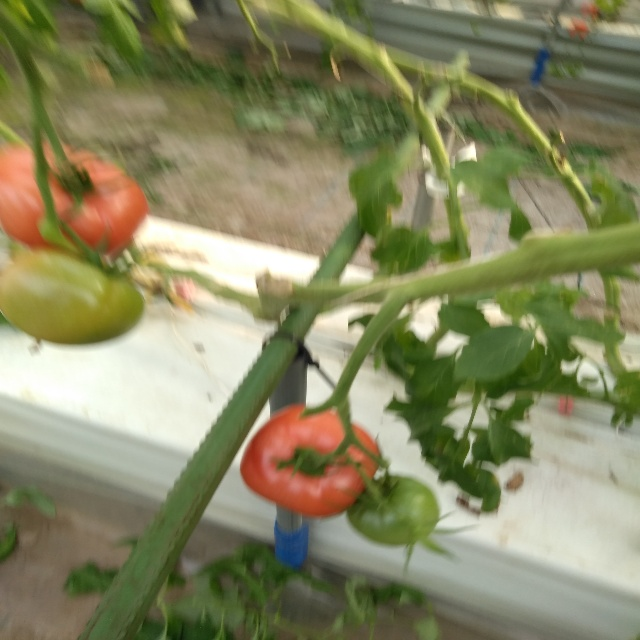b_fully_ripened: (238, 407, 382, 519)
b_green: (0, 251, 145, 345), (347, 475, 439, 546)
b_half_ripened: (1, 145, 149, 255)
